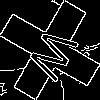W: (25, 25, 88, 89)
